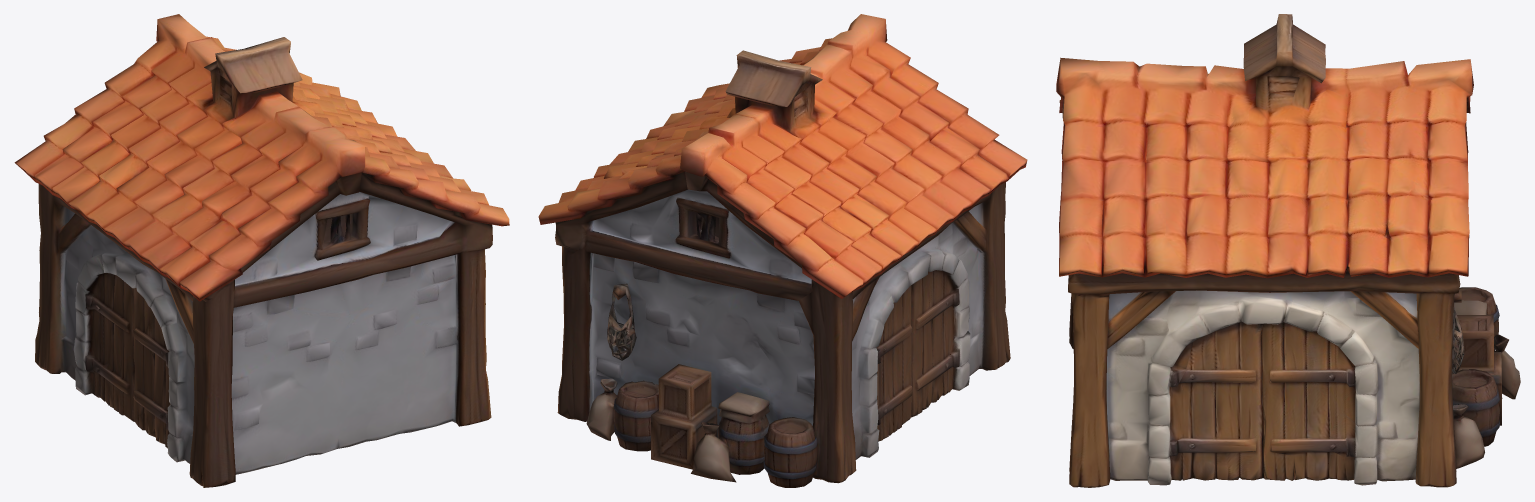
Rendered from storehouse_l0.glb.
3 views of the same model, side by side, from view 1: azimuth 30°, elevation 25°; view 2: azimuth 150°, elevation 25°; view 3: azimuth 270°, elevation 25° (orthographic). The views are drawn at different scales.
Parts seen in each view (by area): view 1: tripo_node_44165c0b-c698-444f-b3fe-088ca30295ef; view 2: tripo_node_44165c0b-c698-444f-b3fe-088ca30295ef; view 3: tripo_node_44165c0b-c698-444f-b3fe-088ca30295ef.
Part boxes in pixels (x1,y1,x2,y2): tripo_node_44165c0b-c698-444f-b3fe-088ca30295ef: (14,14,509,487); tripo_node_44165c0b-c698-444f-b3fe-088ca30295ef: (538,14,1027,487); tripo_node_44165c0b-c698-444f-b3fe-088ca30295ef: (1056,14,1520,487).
Size of the model in its own units: 0.8677 by 0.8828 by 0.981.
Materials: 1 (1 with a texture image).
